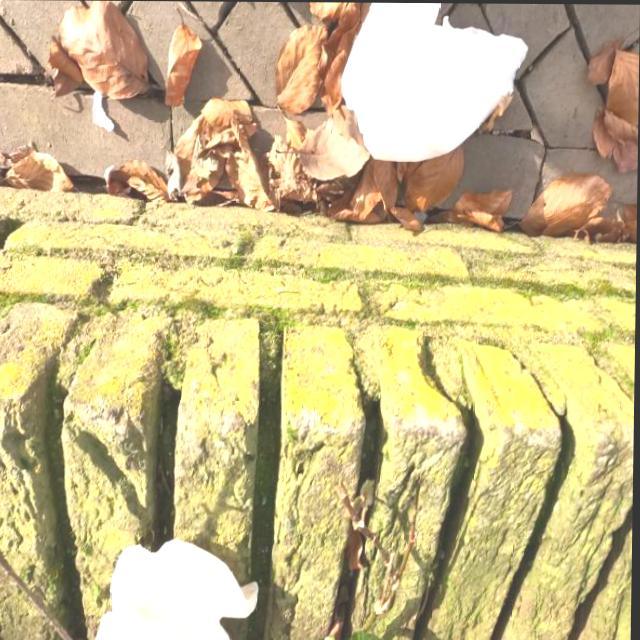Paper: (341, 2, 530, 164), (78, 541, 265, 640)
